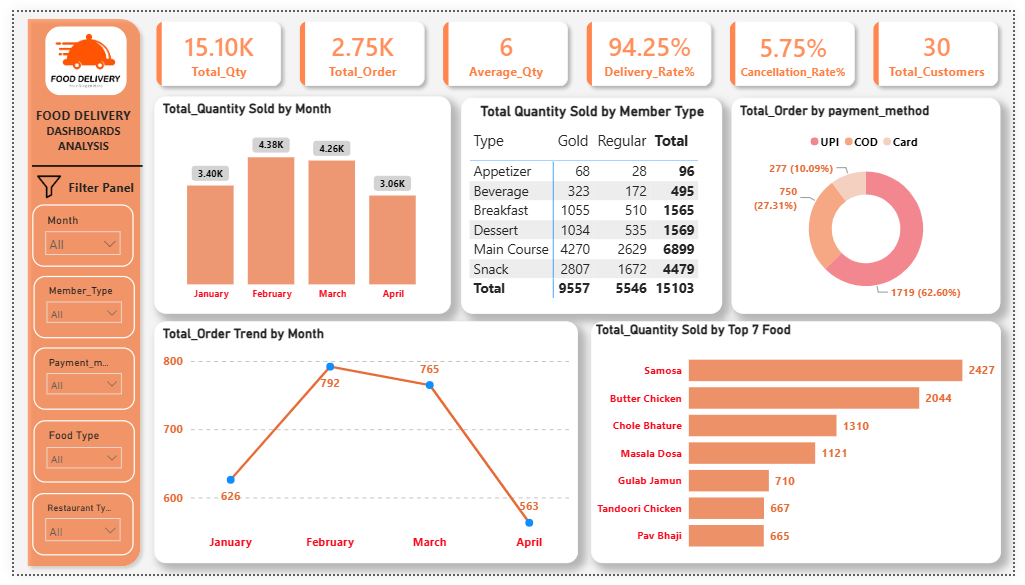

The dashboard page shown, as its layout file describes it:
{"tool":"powerbi","page":{"name":"FOOD_DELIVERY_DASHBOARD","canvas":[1280,720],"ordinal":0},"visuals":[{"type":"shape","box":[8.6,0,162.9,720],"z":0},{"type":"image","box":[40,18.6,104.3,88.6],"z":1000},{"type":"cardVisual","fields":{"Data":["Kpis.Total_Qty","Kpis.Total_Transaction","Kpis.Average_Qty","Kpis.Delivery_Rate%","Kpis.Cancellation_Rate","Kpis.Total_Customers"]},"box":[164.3,0,1115.7,107.1],"z":2000},{"type":"textbox","box":[18.6,117.1,141.4,70],"z":3000},{"type":"shape","box":[22.9,187.1,141.4,21.4],"z":4000},{"type":"clusteredColumnChart","title":"Total_Quantity Sold by Month","fields":{"Y":["Kpis.Total_Qty"],"Category":["Sales Data.orderDate.Variation.Date Hierarchy.Month"]},"box":[180,108.3,380,278.3],"z":5000},{"type":"pivotTable","title":"Total Quantity Sold by Member Type","fields":{"Values":["Kpis.Total_Qty"],"Columns":["Customer Details.member_Type"],"Rows":["Food_Details.Type"]},"box":[573.3,110,335,276.7],"z":6000},{"type":"donutChart","fields":{"Category":["Sales Data.payment_method"],"Y":["Kpis.Total_Order"]},"box":[920,110,345,276.7],"z":7000},{"type":"lineChart","title":"Total_Order Trend by Month","fields":{"Y":["Kpis.Total_Order"],"Category":["Sales Data.orderDate.Variation.Date Hierarchy.Month"]},"box":[180,397.1,542.9,310],"z":8000},{"type":"clusteredBarChart","title":"Total_Quantity Sold by Top 7 Food","fields":{"Category":["Food_Details.Food"],"Y":["Kpis.Total_Qty"]},"box":[740,397.1,525.7,310],"z":9000},{"type":"textbox","box":[64.5,209.1,95.7,34.3],"z":10000},{"type":"image","box":[24.5,209.1,40,31.4],"z":11000},{"type":"slicer","fields":{"Values":["Sales Data.orderDate.Variation.Date Hierarchy.Month"]},"box":[22.9,247.1,130,80],"z":12000},{"type":"slicer","fields":{"Values":["Customer Details.member_Type"]},"box":[24.3,338.6,130,80],"z":13000},{"type":"slicer","fields":{"Values":["Sales Data.payment_method"]},"box":[24.3,430,130,80],"z":14000},{"type":"slicer","fields":{"Values":["Food_Details.Type"]},"box":[25.7,522.9,130,80],"z":15000},{"type":"slicer","fields":{"Values":["Resturant_Details.Resturant_type"]},"box":[22.9,617.1,130,80],"z":16000}]}

Visuals, with their boxes in screenshot pixels (x1, y1, x2, y2), scaled from the page's 1280x720 canvas onto the 1025x585 screenshot:
shape: [x1=7, y1=0, x2=137, y2=584]
image: [x1=32, y1=15, x2=116, y2=87]
cardVisual - Kpis.Total_Qty x Kpis.Total_Transaction: [x1=132, y1=0, x2=1024, y2=87]
textbox: [x1=15, y1=95, x2=128, y2=152]
shape: [x1=18, y1=152, x2=132, y2=169]
"Total_Quantity Sold by Month" clusteredColumnChart: [x1=144, y1=88, x2=448, y2=314]
"Total Quantity Sold by Member Type" pivotTable: [x1=459, y1=89, x2=727, y2=314]
donutChart - Sales Data.payment_method x Kpis.Total_Order: [x1=737, y1=89, x2=1013, y2=314]
"Total_Order Trend by Month" lineChart: [x1=144, y1=323, x2=579, y2=575]
"Total_Quantity Sold by Top 7 Food" clusteredBarChart: [x1=593, y1=323, x2=1014, y2=575]
textbox: [x1=52, y1=170, x2=128, y2=198]
image: [x1=20, y1=170, x2=52, y2=195]
slicer - Sales Data.orderDate.Variation.Date Hierarchy.Month: [x1=18, y1=201, x2=122, y2=266]
slicer - Customer Details.member_Type: [x1=19, y1=275, x2=124, y2=340]
slicer - Sales Data.payment_method: [x1=19, y1=349, x2=124, y2=414]
slicer - Food_Details.Type: [x1=21, y1=425, x2=125, y2=490]
slicer - Resturant_Details.Resturant_type: [x1=18, y1=501, x2=122, y2=566]
